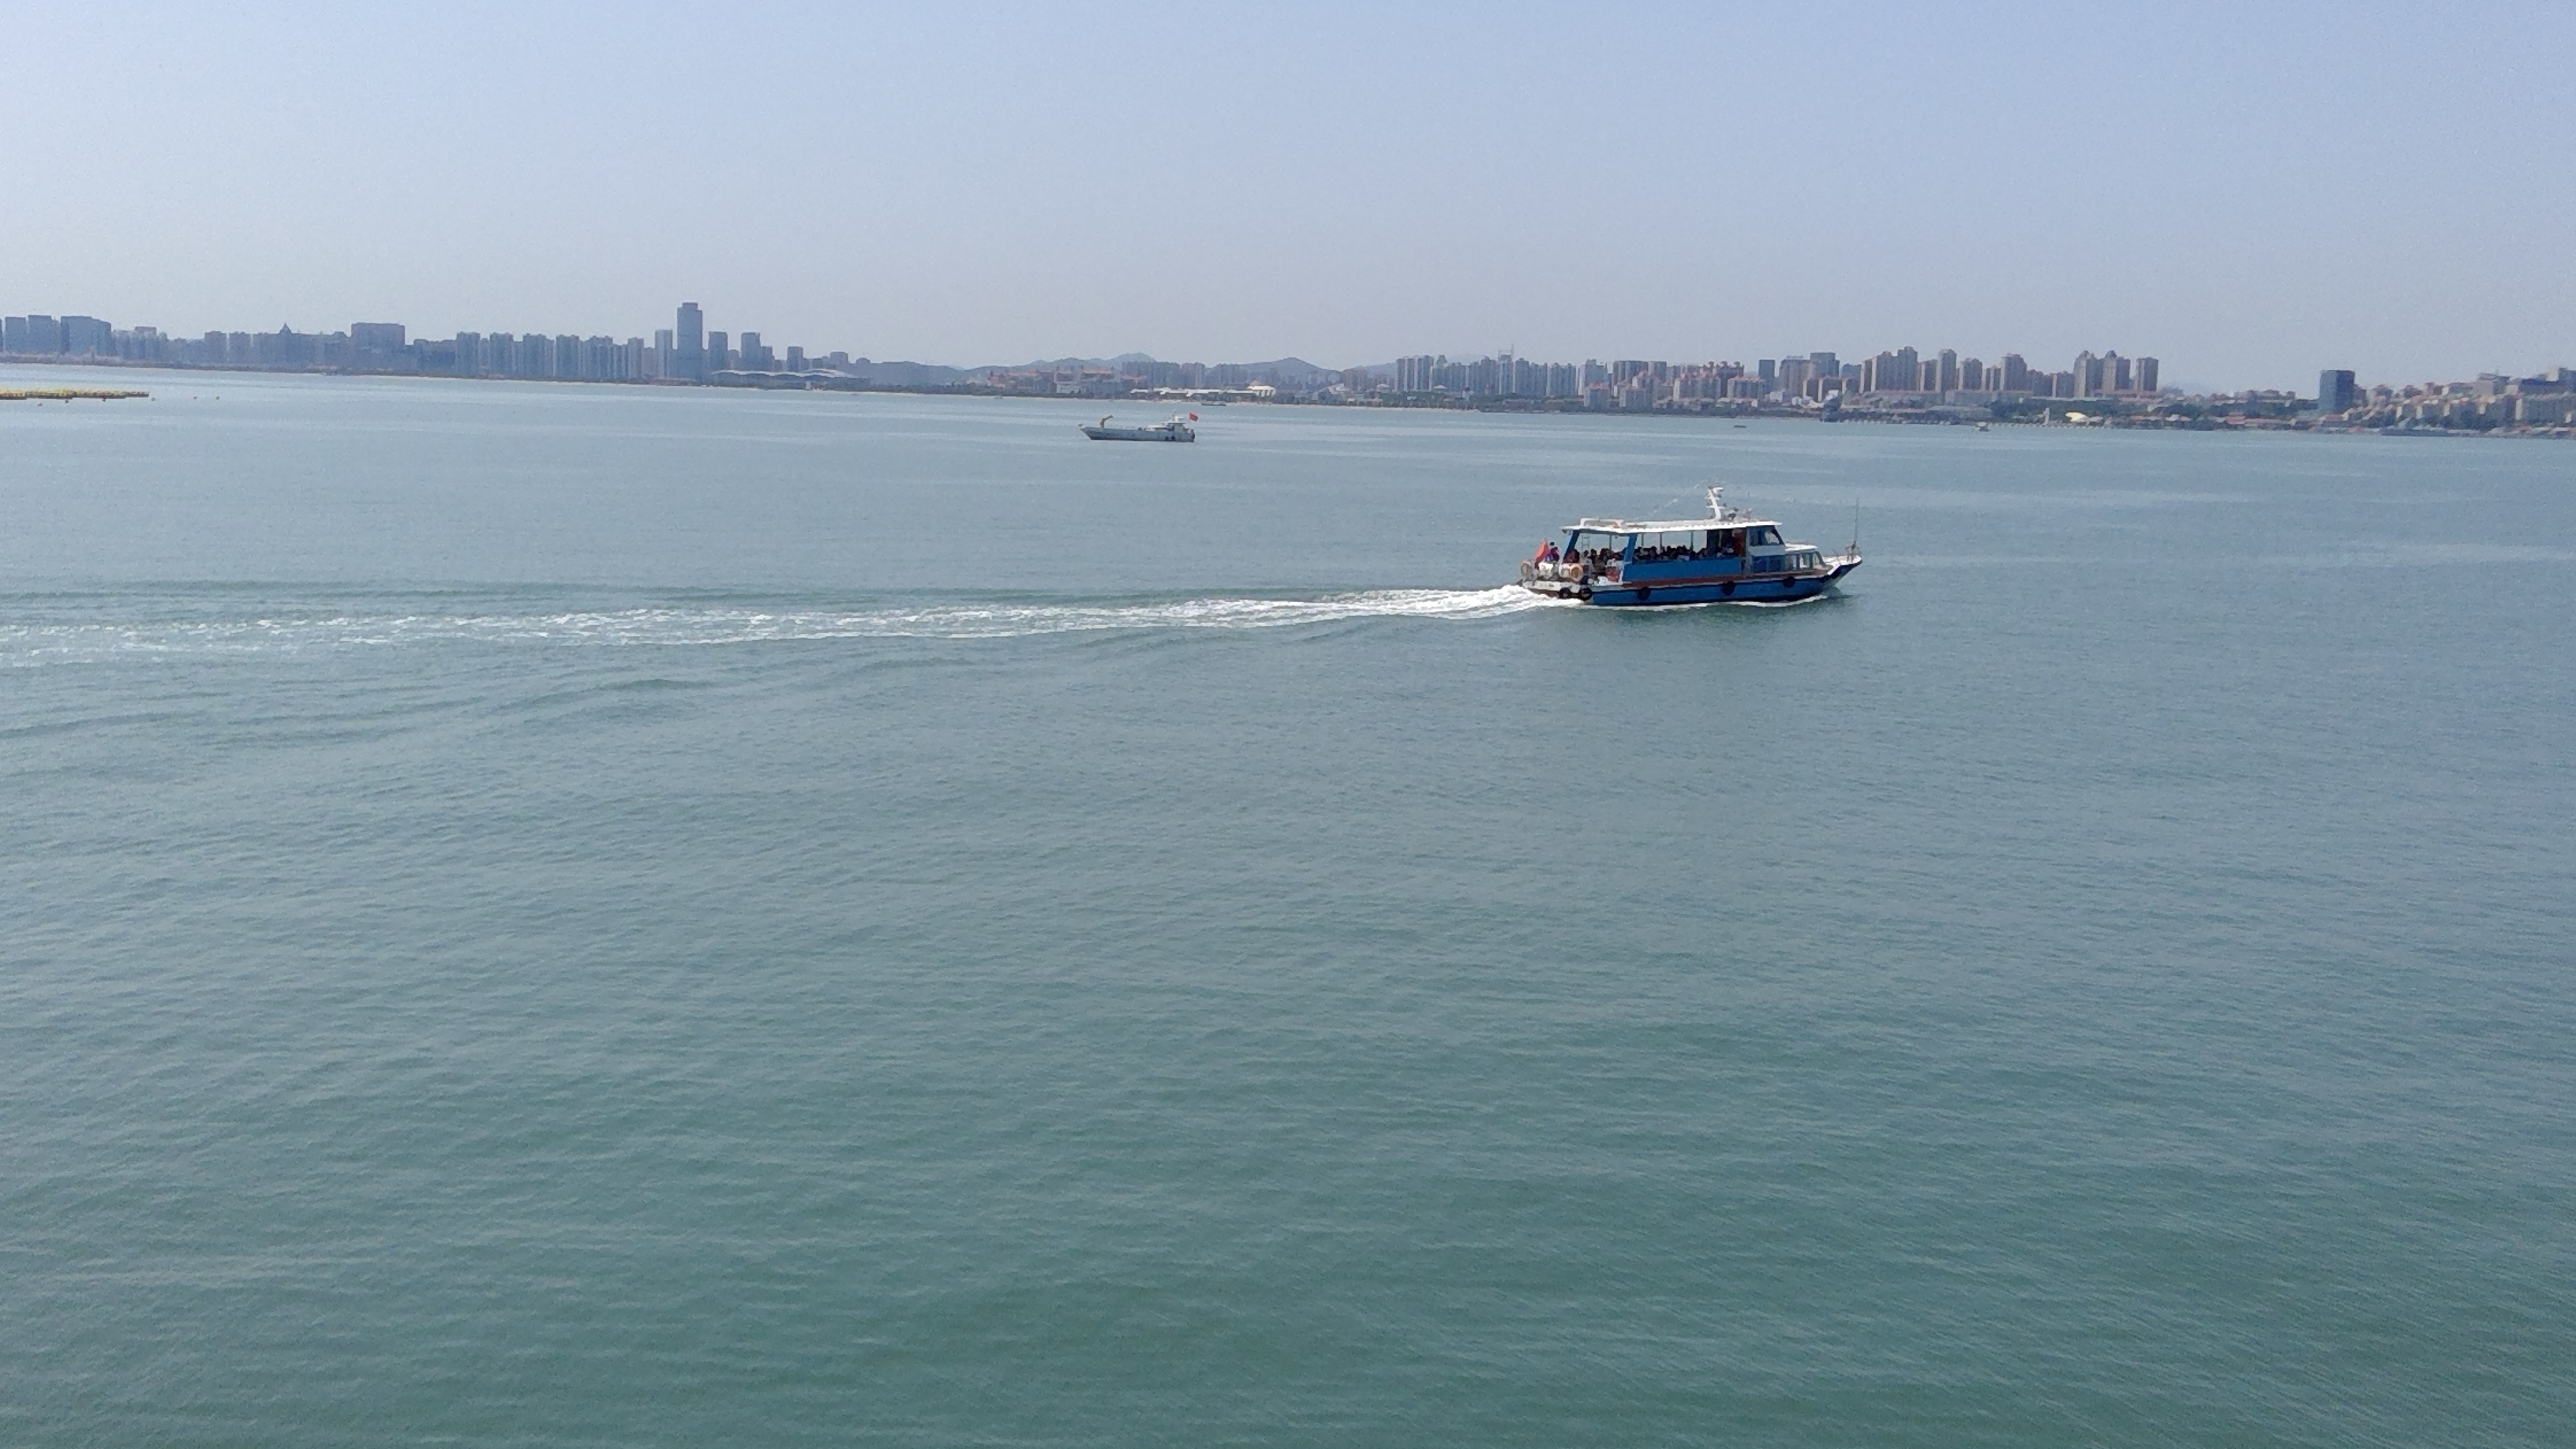ship: (1518, 471, 1879, 630), (1069, 402, 1223, 460)
